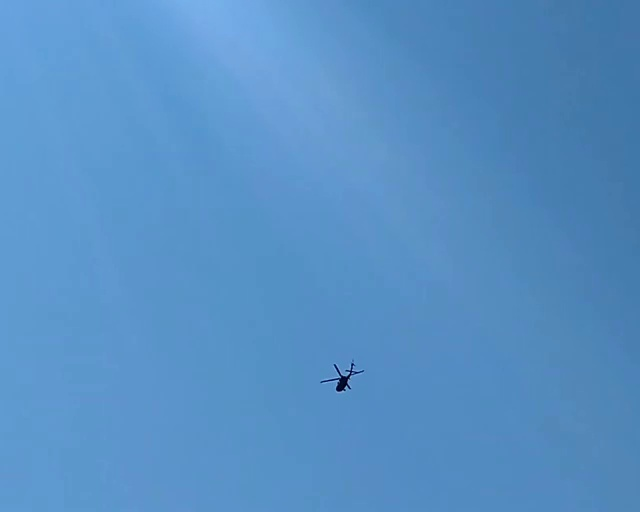HELICOPTER: (320, 359, 364, 392)
